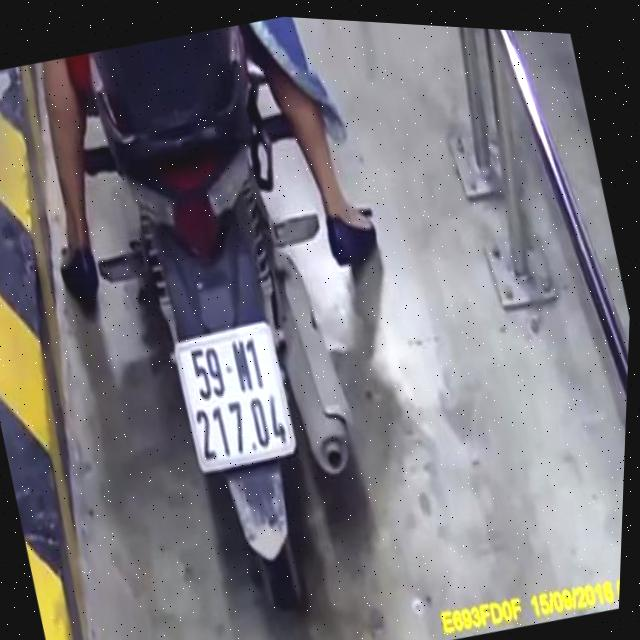motorcycle: (26, 3, 433, 640)
plate: (150, 302, 323, 495)
